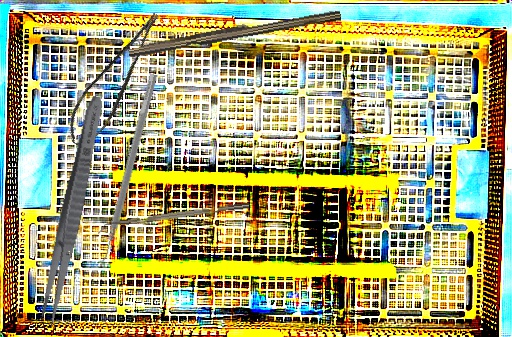Chopper: (96, 202, 251, 235)
Dressing Forceps: (35, 94, 109, 330)
Micro Scissor: (54, 9, 182, 153)
Scalpel Handle: (127, 3, 342, 62)
Spatula Surgical: (94, 71, 158, 266)
